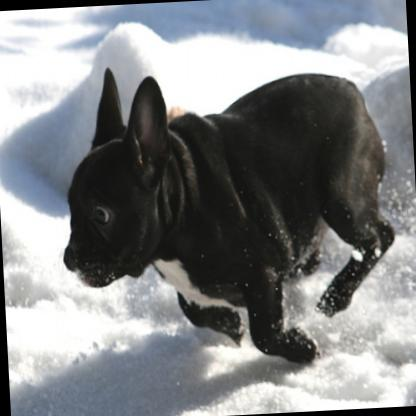French_bulldog: (49, 47, 400, 373)
